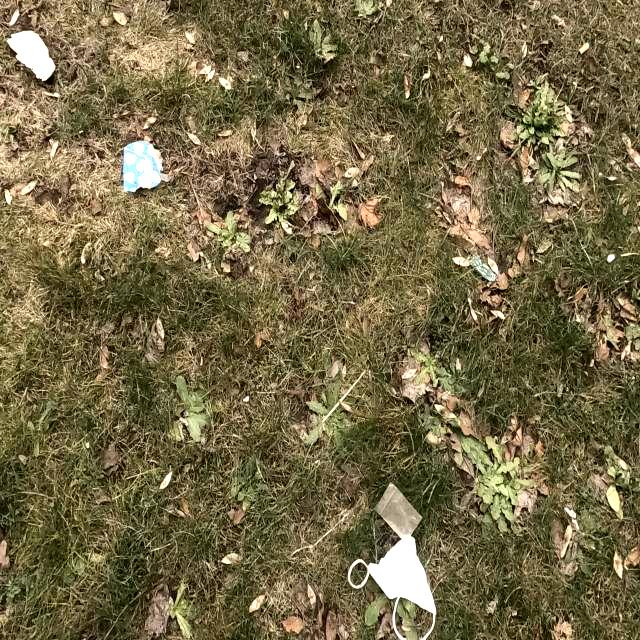Mask: (343, 548, 437, 632)
